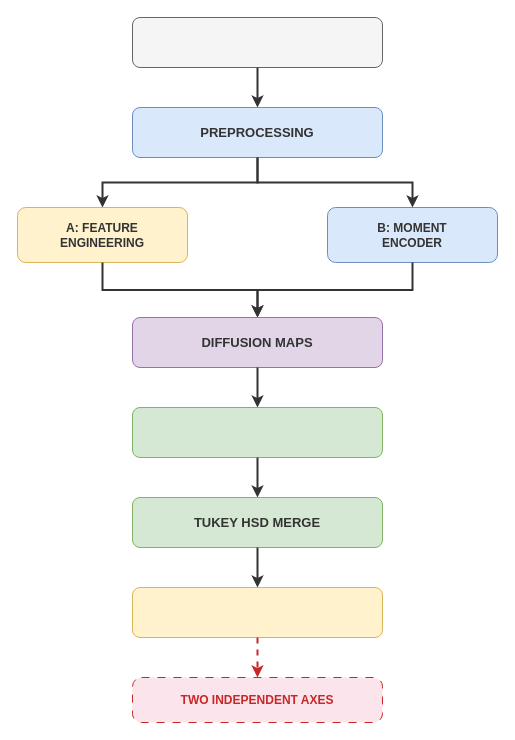
The diagram is 515 pixels wide and 740 high, and some of its shapes have lost their labels. Each missing label, with the box of its shape:
FINAL REGIMES: (132, 586, 382, 638)
HOURLY LMP: (132, 16, 382, 68)
ToMATo CLUSTERING: (132, 406, 382, 458)
